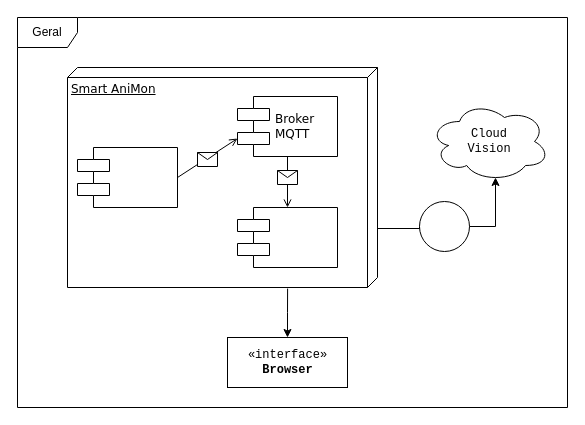
This 585x425 diagram has some shape labels left out. Each missing label, with the centre of its shape:
API: pixel 444 226
Módulo: pixel 127 177
Servidor: pixel 287 237
